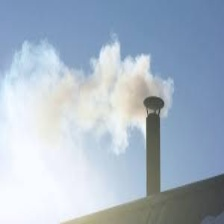smoke: (13, 44, 169, 124)
